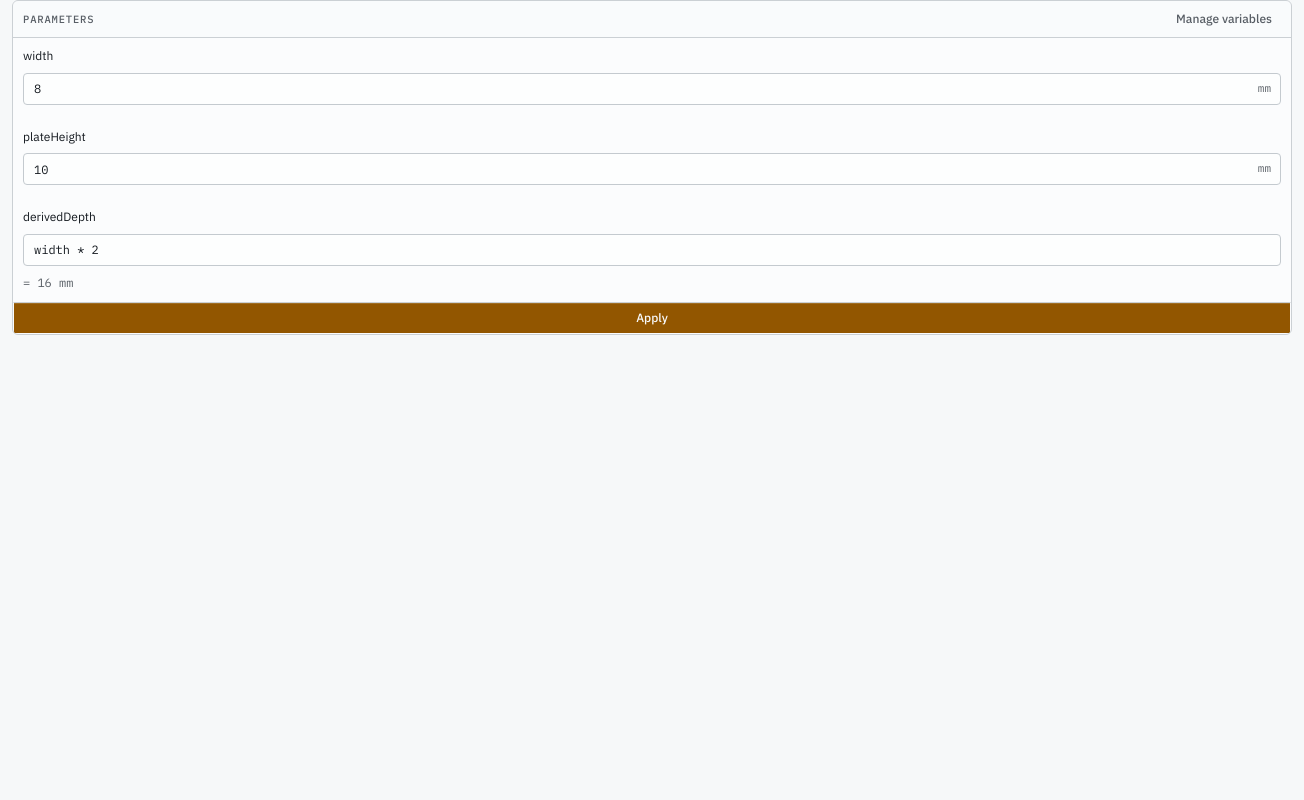
Test: CadParameterManager expression editing › opens the $ autocomplete mid-text, inserts the bare identifier, and previews live
Click the button "Manage variables".
click(1224, 19)  # box [1167, 7, 1281, 31]
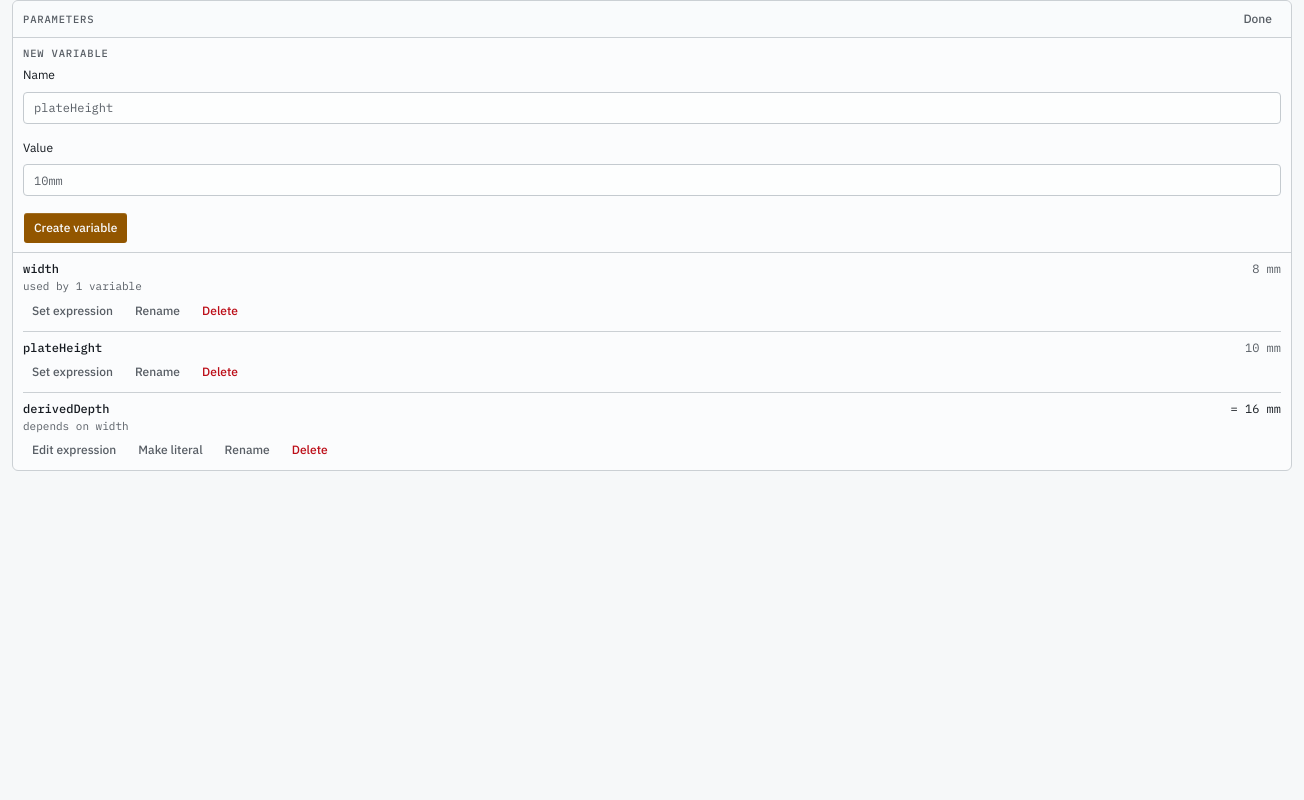
Click the button "Set expression" below "plateHeight".
click(72, 372)  # box [23, 360, 122, 384]
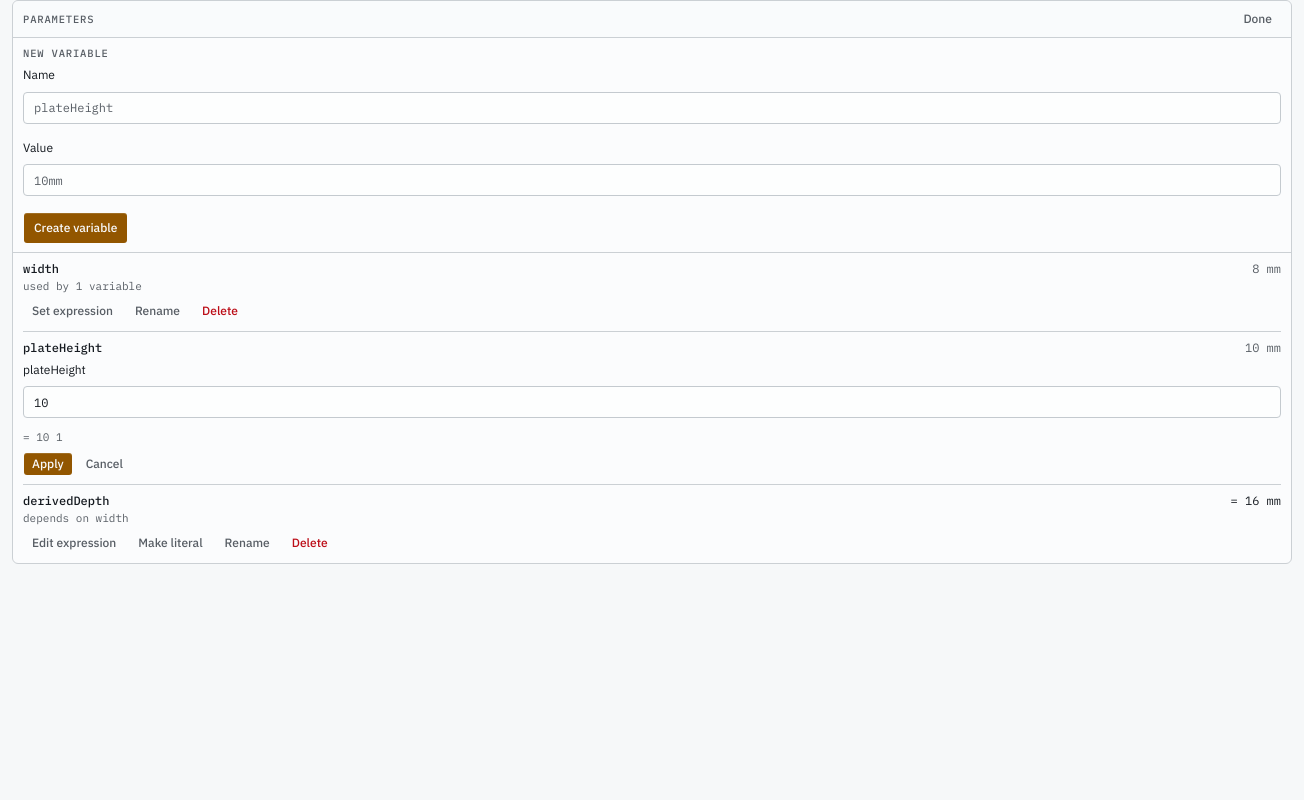
Now the dropdown labelled "plateHeight" holds "10"
Replace the text in the dropdown labelled "plateHeight" with "10mm + $de" at (652, 402), box [23, 386, 1281, 418]
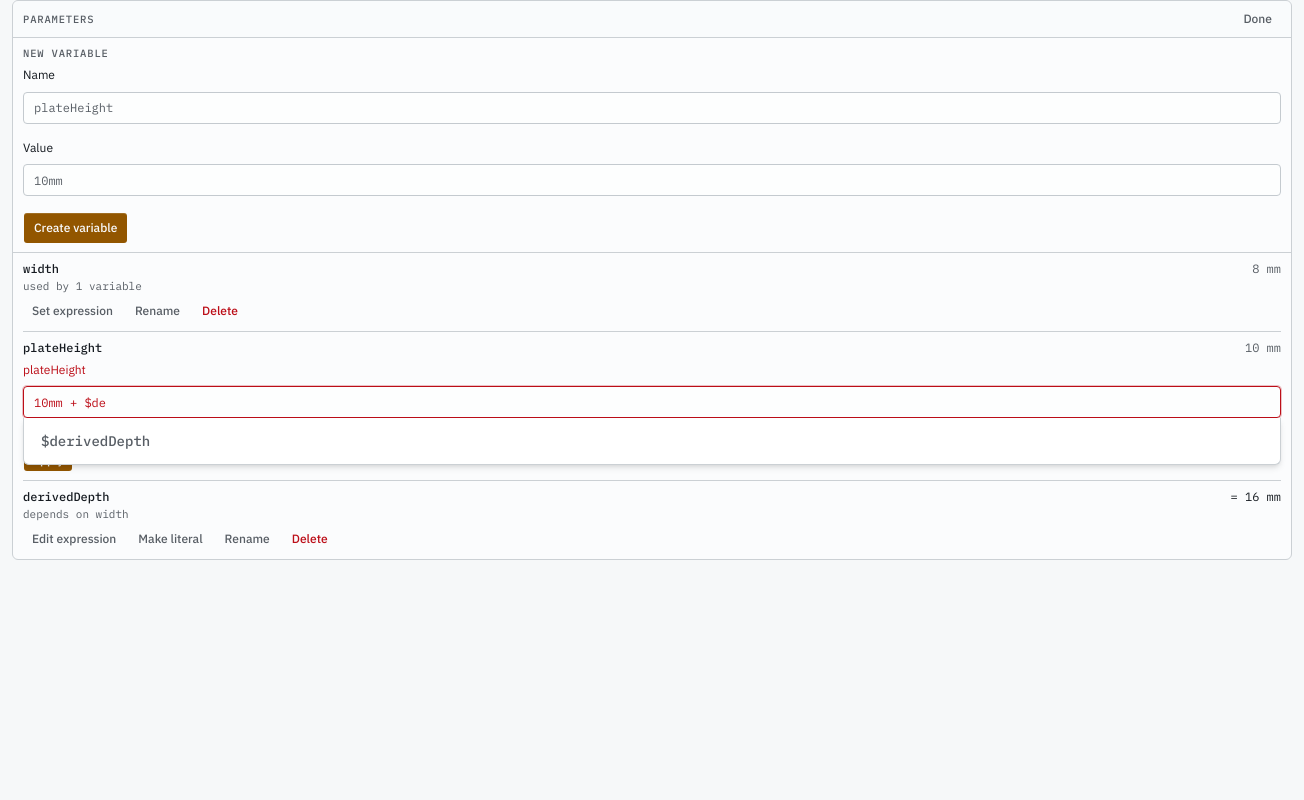
Now the dropdown labelled "plateHeight" is expanded, box [23, 386, 1281, 418]
Click the option "$derivedDepth".
click(96, 441)  # box [28, 422, 1276, 460]
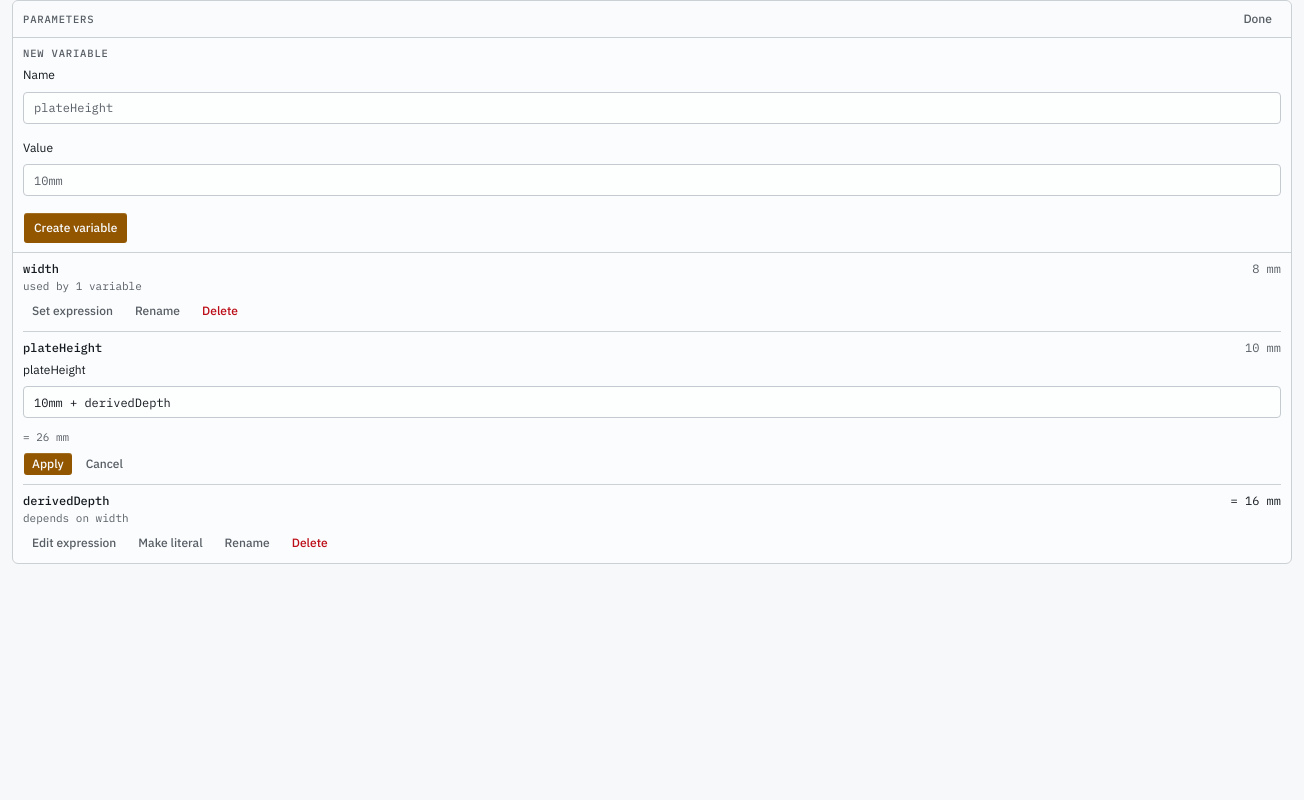
Now the dropdown labelled "plateHeight" holds "10mm + derivedDepth", box [23, 386, 1281, 418]
Now the text "= 26 mm" is shown, box [23, 430, 69, 444]
